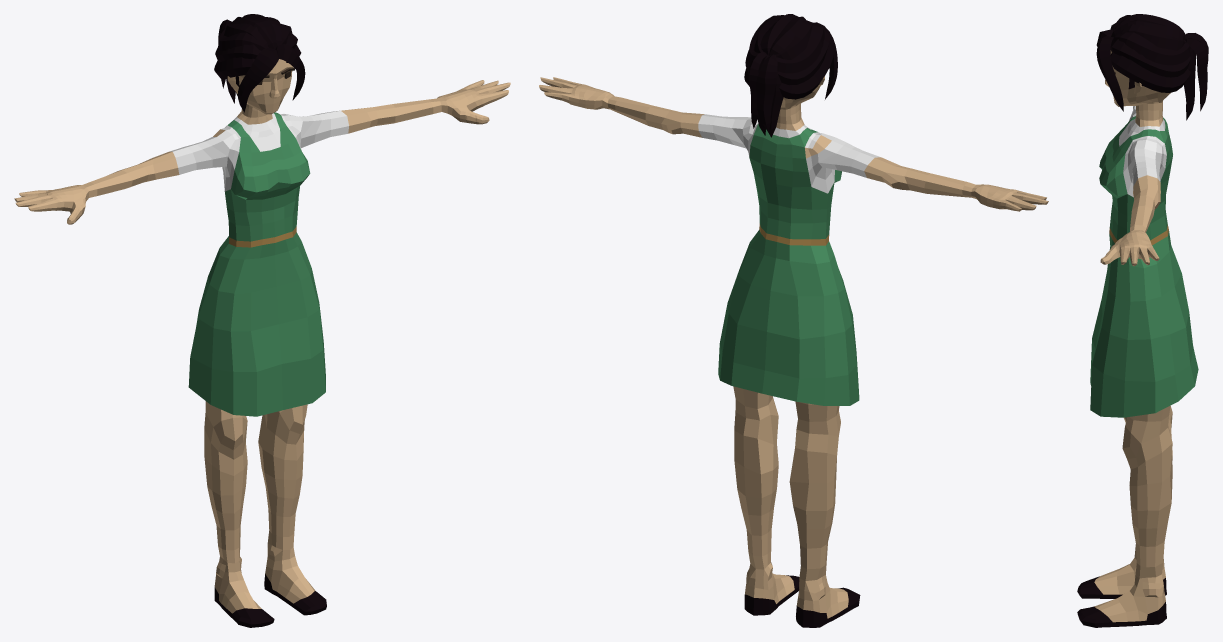
File: Character Kasir.fbx
3 views of the same model, side by side, from view 1: azimuth 30°, elevation 25°; view 2: azimuth 150°, elevation 25°; view 3: azimuth 270°, elevation 25° (orthographic). The views are drawn at different scales.
Visible parts, largest first — view 1: Formal_Body.007; view 2: Formal_Body.007; view 3: Formal_Body.007.
Boxes of the visible parts, box(x1,y1,x2,y2) form: Formal_Body.007: box(14, 14, 510, 627); Formal_Body.007: box(539, 14, 1048, 627); Formal_Body.007: box(1077, 14, 1208, 627).
Size of the model in its own units: 154 by 172 by 34.72.
